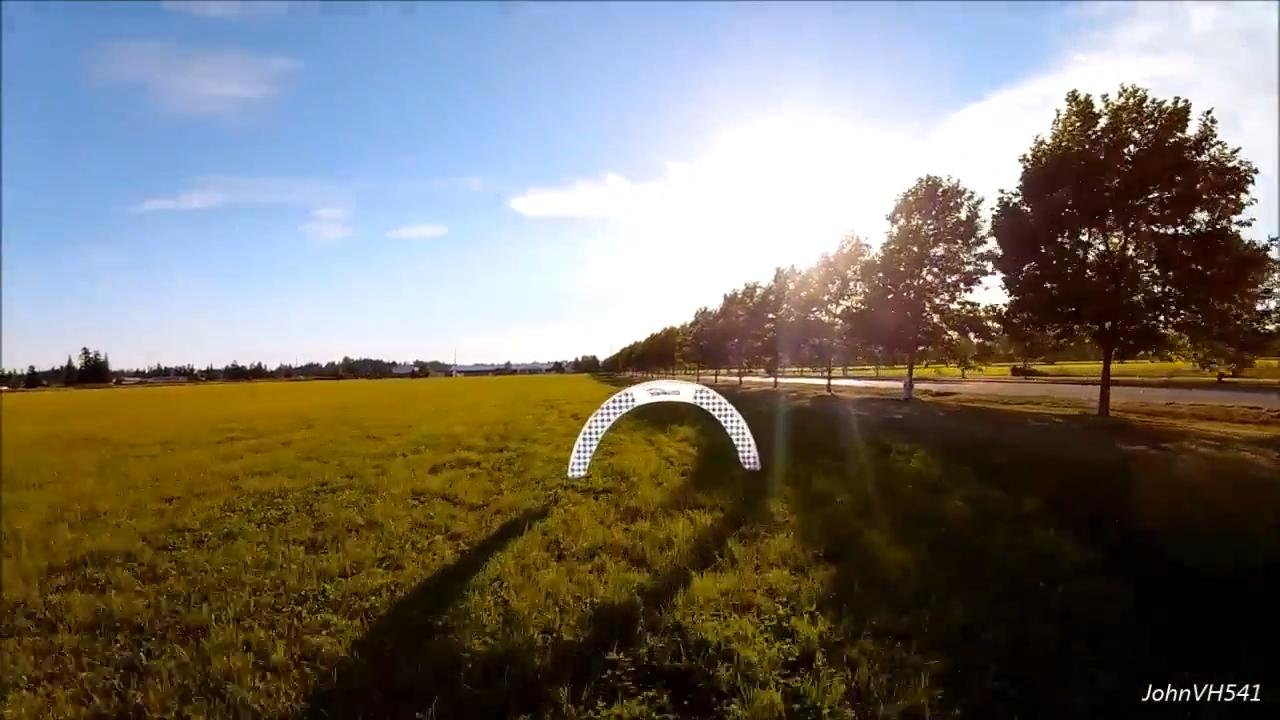gate: (565, 381, 765, 479)
